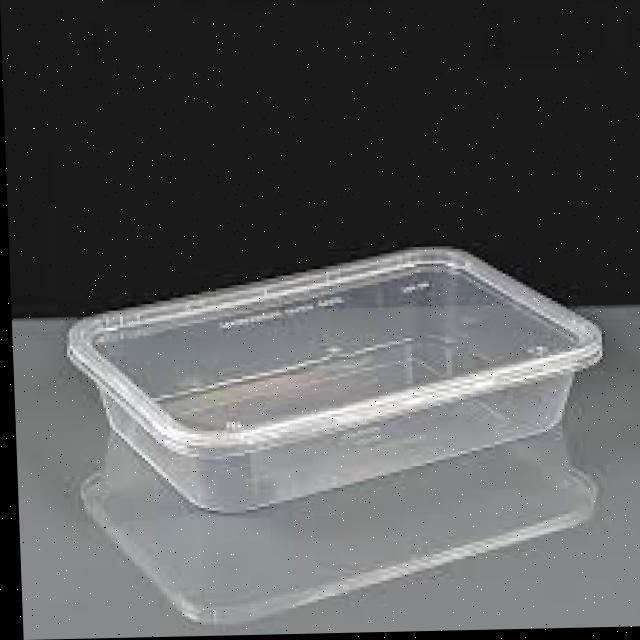disposable: (55, 216, 620, 533)
